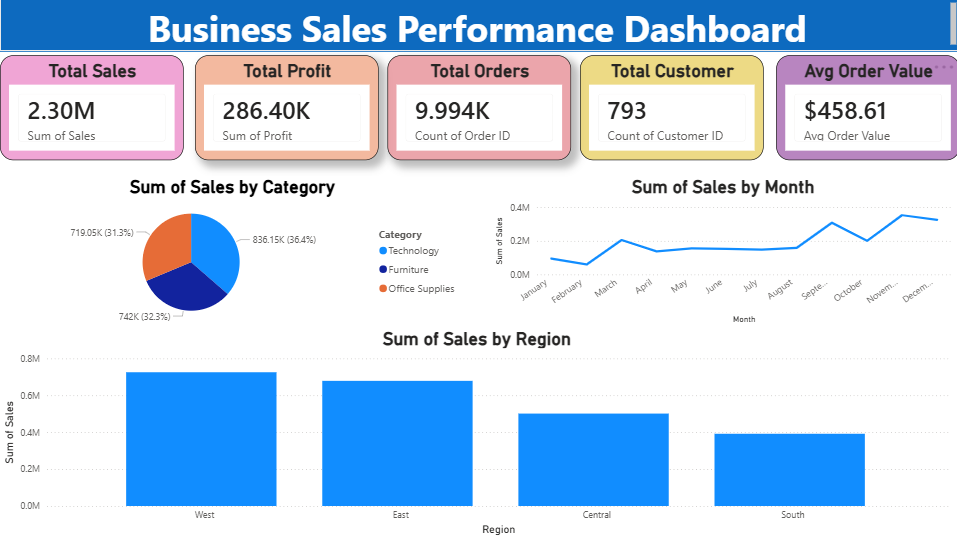

Layout of this report page (visuals, bound fields, positions):
{"tool":"powerbi","page":{"name":"Page 1","canvas":[1280,720],"ordinal":0},"visuals":[{"type":"cardVisual","title":"Total Profit","fields":{"Data":["Sum(Sample - Superstore.Profit)"]},"box":[260,75,245,140],"z":1000},{"type":"columnChart","fields":{"Category":["Sample - Superstore.Region"],"Y":["Sum(Sample - Superstore.Sales)"]},"box":[0,438.3,1271.7,281.7],"z":2000},{"type":"pieChart","fields":{"Category":["Sample - Superstore.Category"],"Y":["Sum(Sample - Superstore.Sales)"]},"box":[0,236.7,620,201.7],"z":3000},{"type":"textbox","box":[0,0,1280,70],"z":4000},{"type":"lineChart","fields":{"Category":["Sample - Superstore.Order Date.Variation.Date Hierarchy.Month"],"Y":["Sum(Sample - Superstore.Sales)"]},"box":[655,236.7,618.3,201.7],"z":5000},{"type":"cardVisual","title":"Total Orders","fields":{"Data":["CountNonNull(Sample - Superstore.Order ID)"]},"box":[516.7,75,245,140],"z":6000},{"type":"cardVisual","title":"Total Customer","fields":{"Data":["Count(Sample - Superstore.Customer ID)"]},"box":[773.3,75,245,140],"z":7000},{"type":"cardVisual","title":"Avg Order Value","fields":{"Data":["Sample - Superstore.Avg Order Value"]},"box":[1035,75,245,140],"z":7001},{"type":"cardVisual","title":"Total Sales","fields":{"Data":["Sum(Sample - Superstore.Sales)"]},"box":[0,75,245,140],"z":7002}]}

Visuals, with their boxes in screenshot pixels (x1, y1, x2, y2), scaled from the page's 1280x720 canvas onto the 957x536 screenshot:
"Total Profit" cardVisual: 194:56:378:160
columnChart - Sample - Superstore.Region x Sum(Sample - Superstore.Sales): 0:326:951:535
pieChart - Sample - Superstore.Category x Sum(Sample - Superstore.Sales): 0:176:464:326
textbox: 0:0:956:52
lineChart - Sample - Superstore.Order Date.Variation.Date Hierarchy.Month x Sum(Sample - Superstore.Sales): 490:176:952:326
"Total Orders" cardVisual: 386:56:569:160
"Total Customer" cardVisual: 578:56:761:160
"Avg Order Value" cardVisual: 774:56:956:160
"Total Sales" cardVisual: 0:56:183:160
